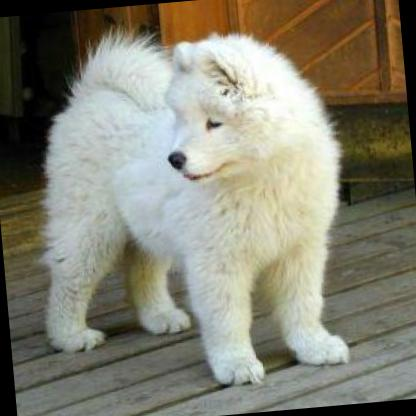Samoyed: (10, 2, 360, 402)
